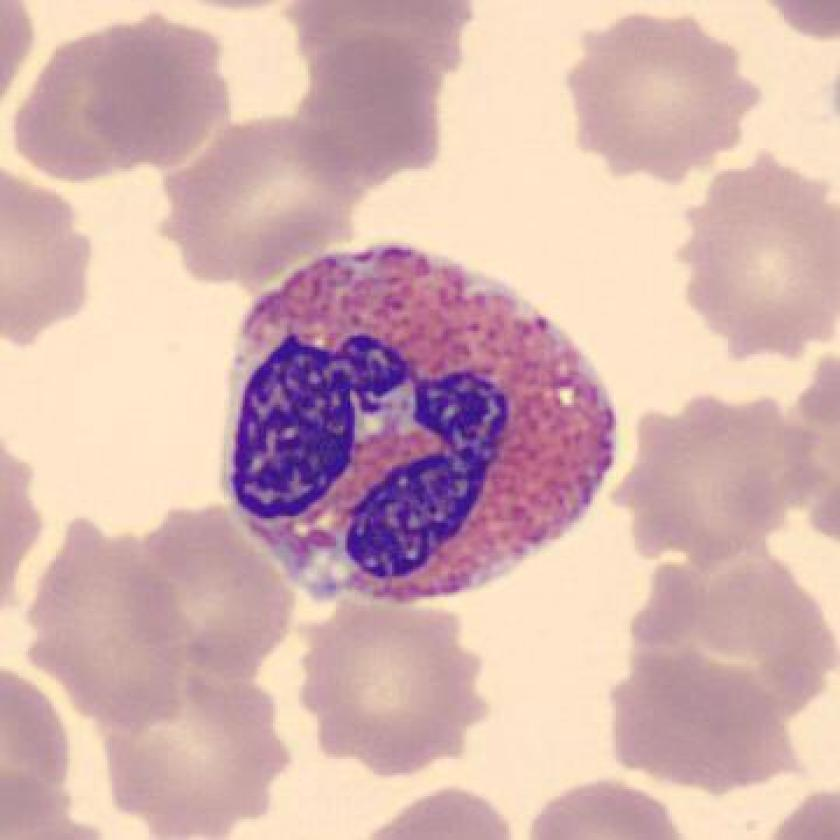eosinophil: (213, 233, 631, 631)
